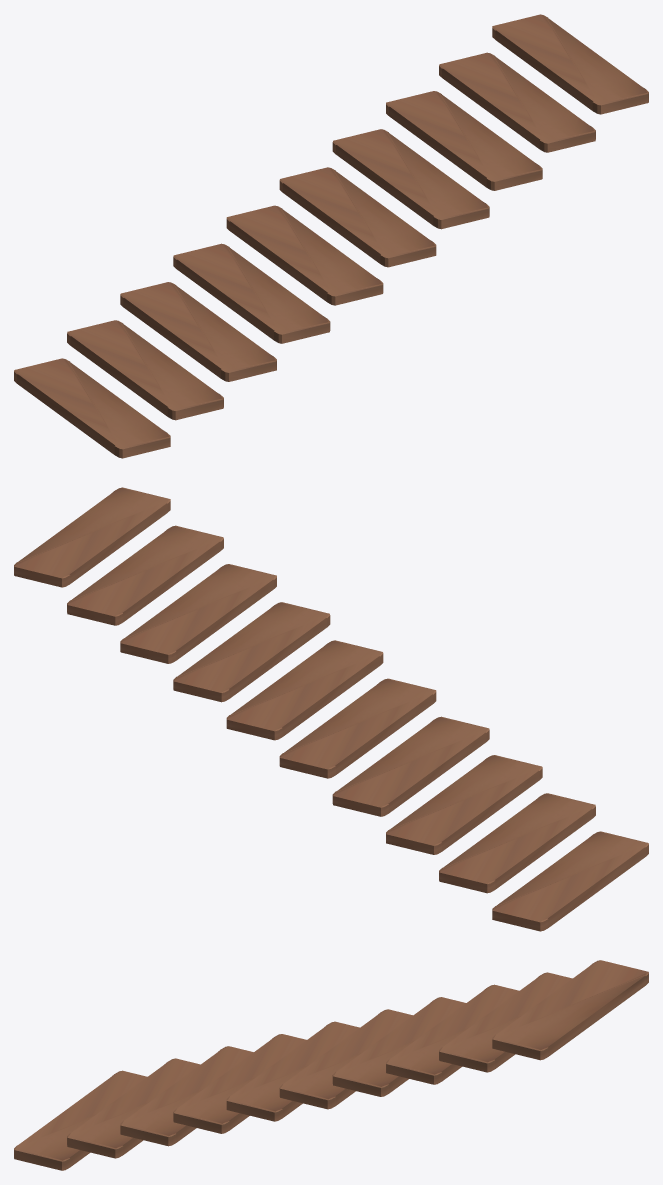
The model's file is Wooden_Stairs.fbx.
3 views of the same model, one above another, from view 1: azimuth 30°, elevation 25°; view 2: azimuth 150°, elevation 25°; view 3: azimuth 330°, elevation 25° (orthographic).
Visible parts, largest first — view 1: Cube; view 2: Cube; view 3: Cube.
Boxes of the visible parts, x1,y1,x2,y2 form: Cube: (14, 14, 648, 458); Cube: (14, 487, 648, 931); Cube: (14, 960, 648, 1170).
Bounding box in the file's own units: 3.79 × 1.34 × 1.62.
Materials: 1 (1 with a texture image).
